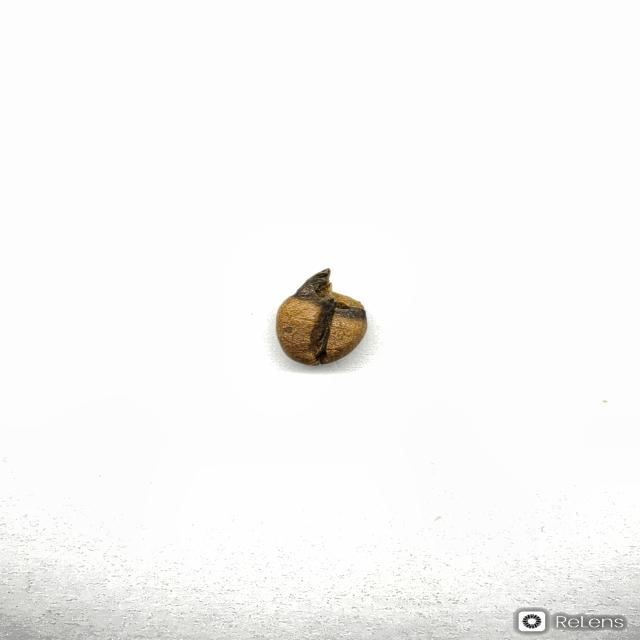Insect damage: (274, 267, 368, 366)
